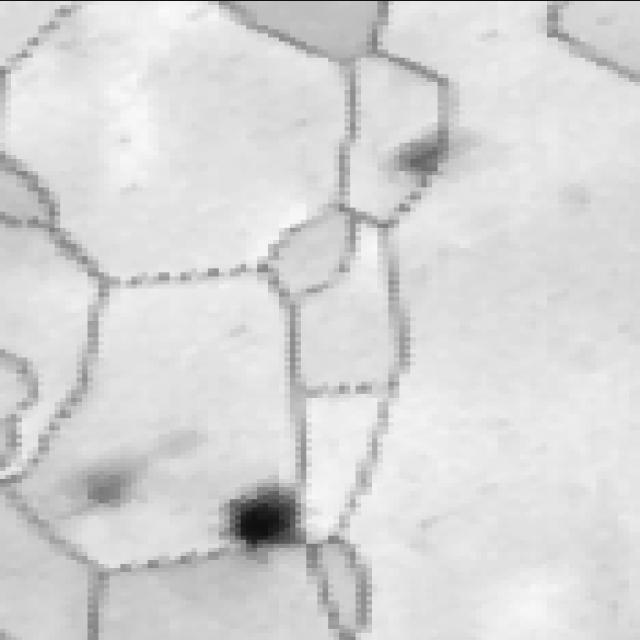good_void: (50, 415, 204, 521), (205, 472, 317, 563), (382, 128, 446, 187)
